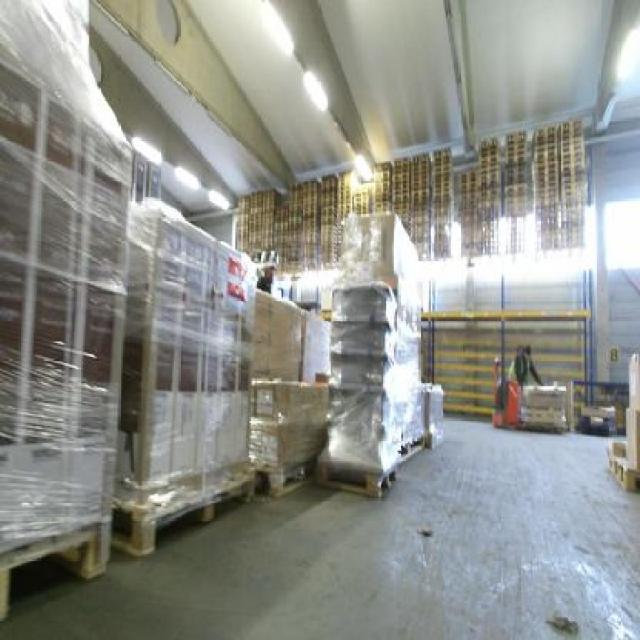ground: (0, 414, 638, 638)
pallet: (107, 462, 257, 559), (0, 518, 112, 624), (250, 452, 319, 501), (310, 457, 386, 498), (603, 444, 638, 498), (519, 407, 568, 426)
